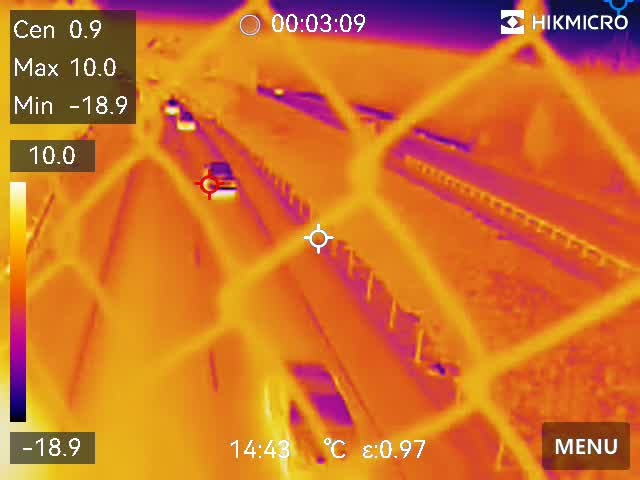vehicle: (264, 355, 365, 468), (200, 158, 237, 200), (177, 108, 203, 135), (158, 96, 183, 115), (271, 86, 286, 99)
